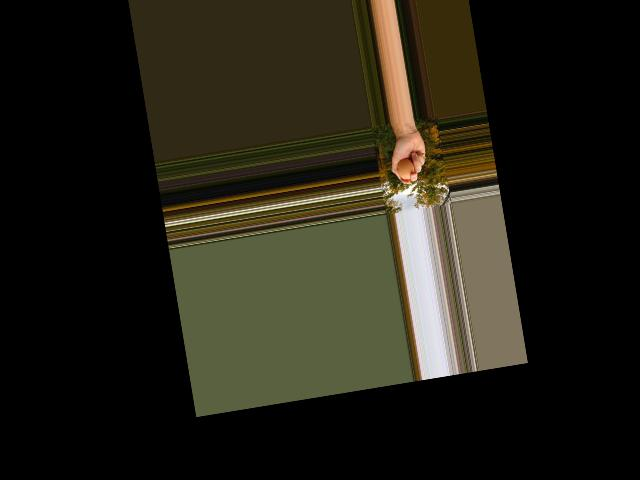egg: (396, 157, 416, 180)
